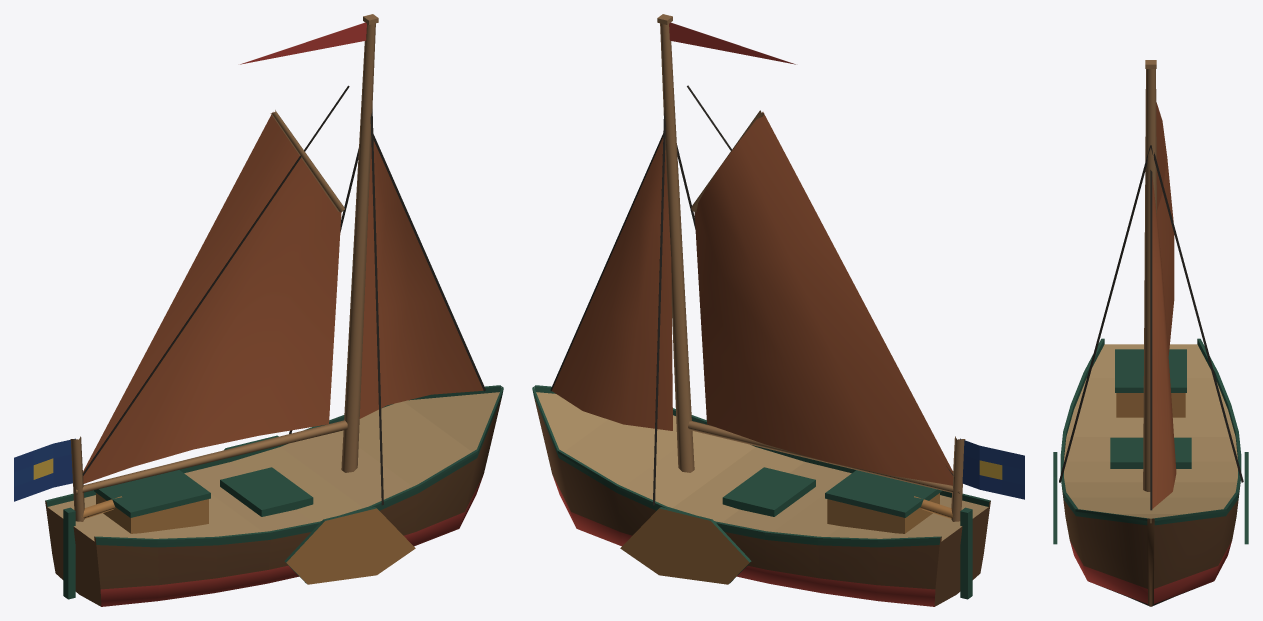
File: hull_eur_botter_boat.glb
3 views of the same model, side by side, from view 1: azimuth 30°, elevation 25°; view 2: azimuth 150°, elevation 25°; view 3: azimuth 270°, elevation 25° (orthographic).
Visible parts, largest first — view 1: hull, sail_main, sail_jib, deck, mast, flag, boom_spar, rigging, gaff; view 2: sail_main, hull, sail_jib, deck, mast, flag, rigging, boom_spar; view 3: hull, sail_jib, deck, mast, rigging, sail_main.
Boxes of the visible parts, x1,y1,x2,y2 form: hull: (45, 385, 503, 606); sail_main: (83, 112, 341, 483); sail_jib: (359, 140, 483, 418); deck: (81, 467, 313, 533); mast: (70, 14, 378, 521); flag: (14, 22, 366, 501); boom_spar: (76, 85, 349, 494); rigging: (289, 109, 485, 505); gaff: (270, 110, 344, 212); sail_main: (694, 112, 953, 485); hull: (532, 385, 990, 606); sail_jib: (552, 137, 672, 430); deck: (722, 467, 954, 533); mast: (657, 14, 965, 521); flag: (669, 22, 1024, 499); rigging: (550, 110, 695, 505); boom_spar: (687, 85, 960, 494); hull: (1053, 338, 1248, 606); sail_jib: (1152, 177, 1176, 508); deck: (1110, 349, 1191, 468); mast: (1143, 60, 1156, 491); rigging: (1059, 145, 1243, 510); sail_main: (1156, 102, 1174, 354).
Bounding box in the file's own units: 8.5 × 8.64 × 2.99.
